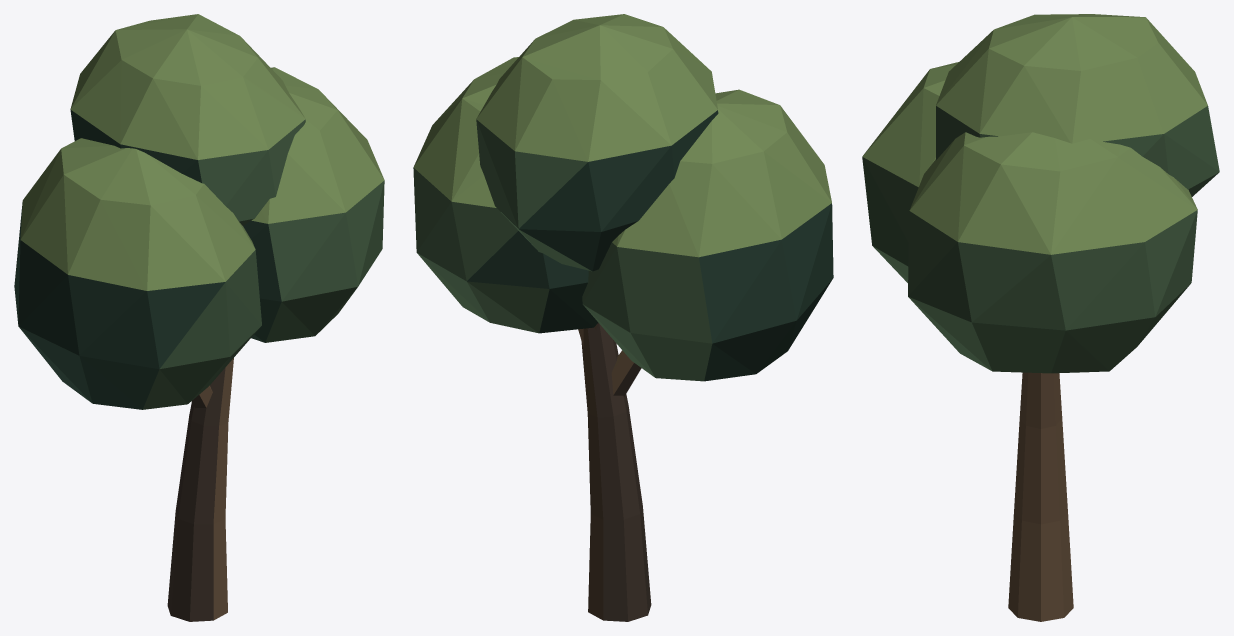
Rendered from TW_TREE_ROUND_SMALL_A_LOD0.glb.
3 renders of one model, left to right at view 1: azimuth 30°, elevation 25°; view 2: azimuth 150°, elevation 25°; view 3: azimuth 270°, elevation 25°, orthographic. The views are drawn at different scales.
Visible parts, largest first — view 1: TW_TREE_ROUND_SMALL_A_LOD0; view 2: TW_TREE_ROUND_SMALL_A_LOD0; view 3: TW_TREE_ROUND_SMALL_A_LOD0.
Part boxes in pixels (left/top/right/bottom): TW_TREE_ROUND_SMALL_A_LOD0: left=14, top=14, right=384, bottom=621; TW_TREE_ROUND_SMALL_A_LOD0: left=413, top=14, right=833, bottom=621; TW_TREE_ROUND_SMALL_A_LOD0: left=862, top=14, right=1219, bottom=621.
Bounding box in the file's own units: 1.8 × 2.8 × 1.53.
Materials: 1 (1 with a texture image).
